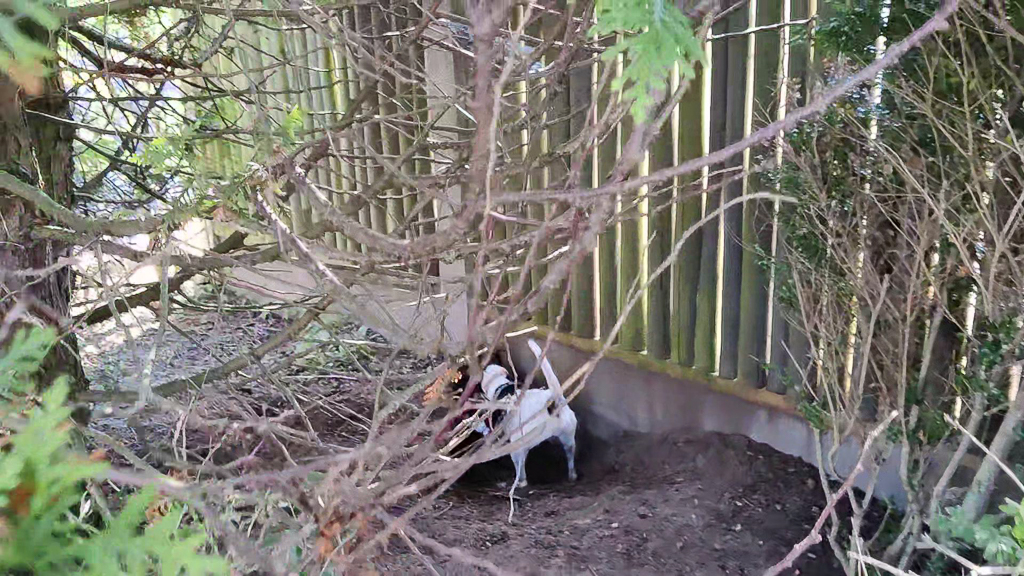Dog: (445, 331, 593, 495)
